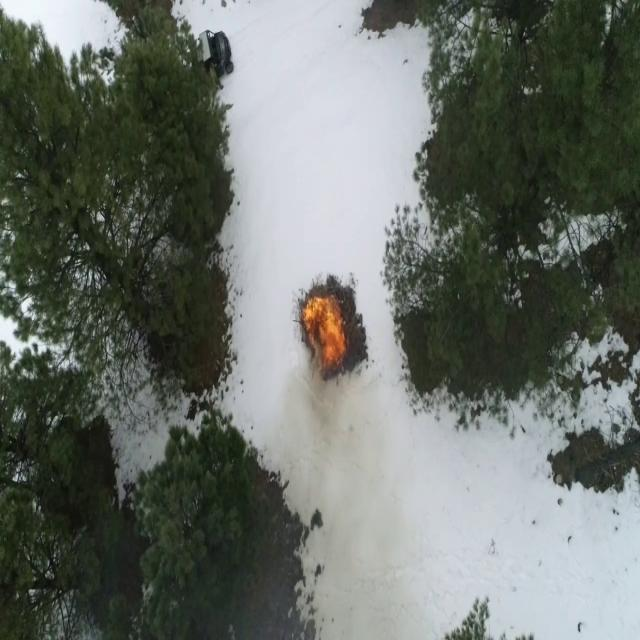fire: (304, 296, 346, 374)
